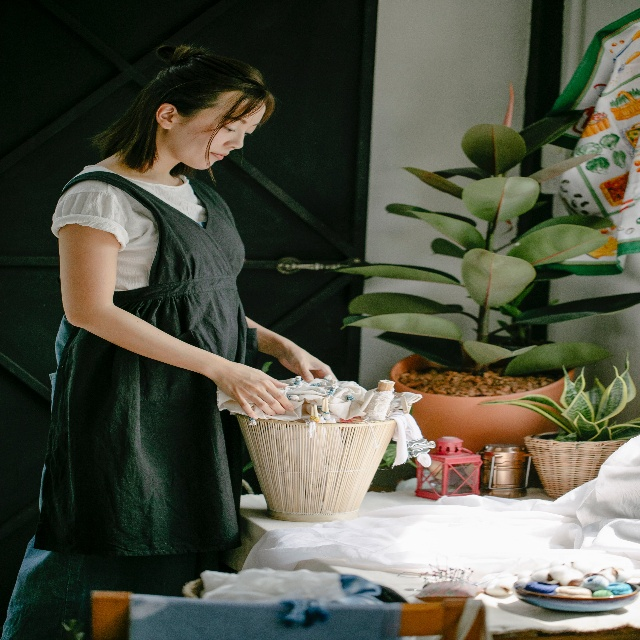Sin_guantes: (218, 361, 295, 421), (279, 339, 339, 384)
